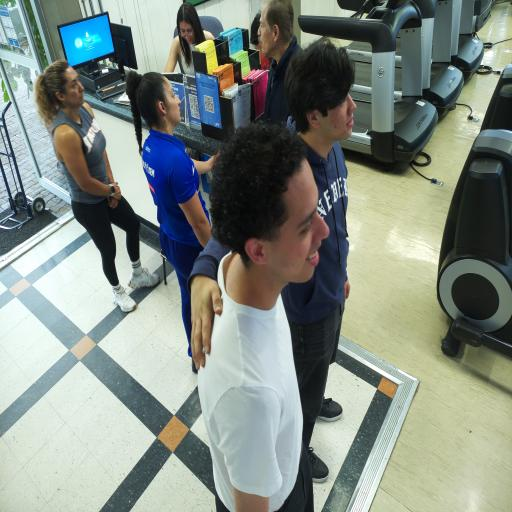person: (198, 123, 328, 511), (36, 61, 159, 312), (282, 39, 355, 447), (126, 72, 214, 356), (258, 0, 300, 123), (165, 3, 214, 75), (250, 12, 270, 69)
